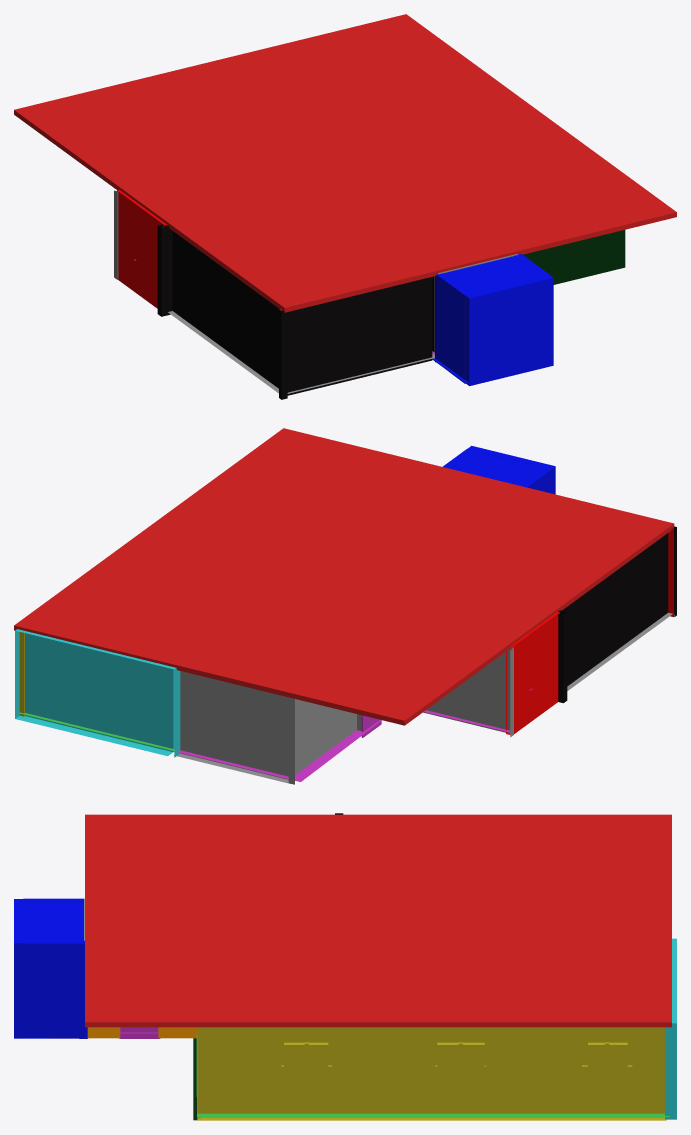
Rendered from SM_Maison.FBX.
The picture shows the model from 3 angles, top to bottom: view 1: azimuth 30°, elevation 25°; view 2: azimuth 150°, elevation 25°; view 3: azimuth 270°, elevation 25°; orthographic projection. The views are drawn at different scales.
Visible parts, largest first — view 1: SM_plafond, SM_mur_chambre, SM_balais, SM_mur_entre, SM_mur_atelier_01, SM_sol_chambre; view 2: SM_plafond, SM_mur_atelier_02, SM_mur_chambre, SM_mur_hall, SM_hall, SM_mur_entre, SM_balais, SM_sol_hall, SM_sol_chambre; view 3: SM_plafond, SM_mur_atelier, SM_balais, SM_sol_atelier, SM_mur_atelier_02, SM_buandrie, SM_sol_hall.
Part boxes in pixels (x1,y1,x2,y2): SM_plafond: (14,14,676,312); SM_mur_chambre: (157,224,435,399); SM_balais: (432,254,553,386); SM_mur_entre: (117,190,281,310); SM_mur_atelier_01: (523,230,625,284); SM_sol_chambre: (168,311,434,393); SM_plafond: (14,428,674,725); SM_mur_atelier_02: (15,629,180,757); SM_mur_chambre: (558,526,676,703); SM_mur_hall: (174,671,290,783); SM_hall: (288,646,513,784); SM_mur_entre: (506,528,673,734); SM_balais: (442,445,555,494); SM_sol_hall: (178,689,532,781); SM_sol_chambre: (567,612,672,690); SM_plafond: (85,814,671,1027); SM_mur_atelier: (197,1027,666,1120); SM_balais: (14,898,87,1038); SM_sol_atelier: (196,1035,669,1116); SM_mur_atelier_02: (665,938,676,1119); SM_buandrie: (87,1027,197,1038); SM_sol_hall: (119,1027,160,1038).
Size of the model in its own units: 1228 by 275 by 1624.
